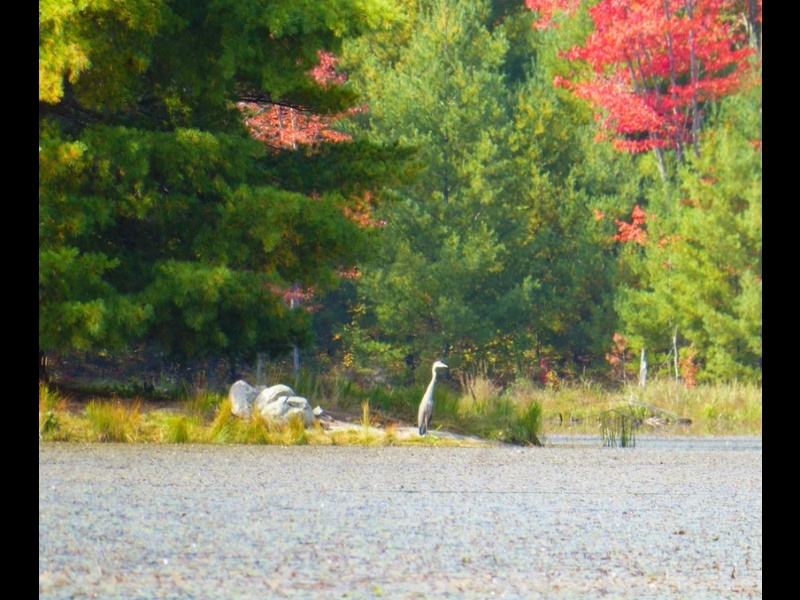heron: (415, 358, 448, 438)
